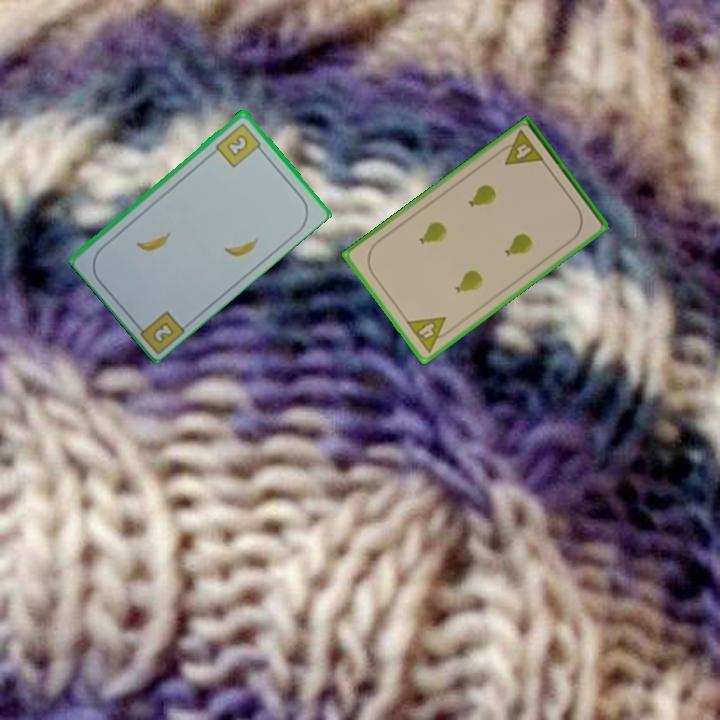2b: (212, 119, 266, 170), (131, 307, 188, 355)
4p: (494, 126, 547, 169), (402, 313, 456, 355)
